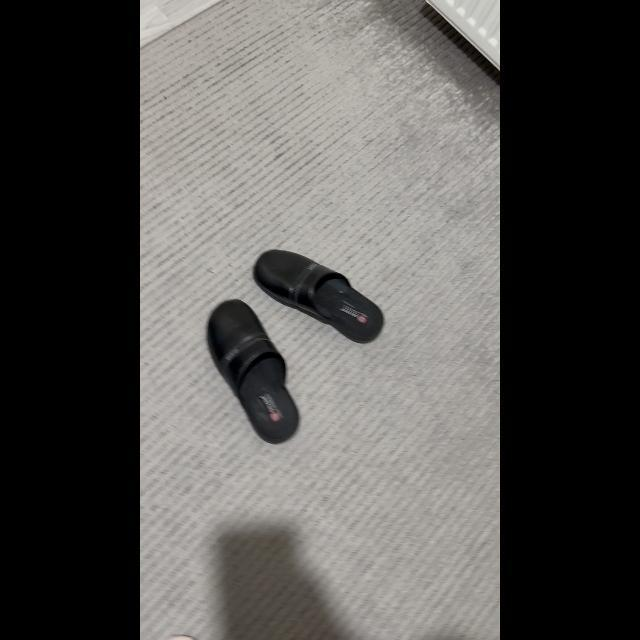slipper: (204, 294, 302, 446), (252, 246, 386, 346)
